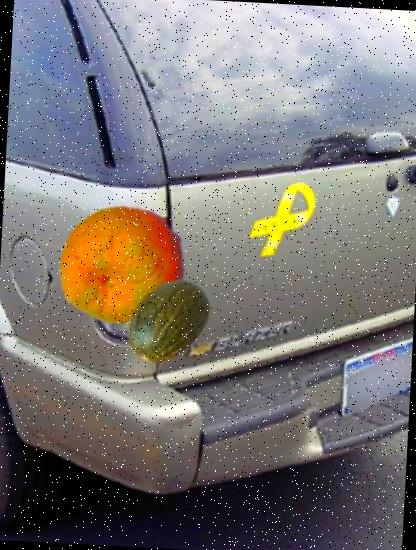Mandarine: (54, 198, 191, 335)
Melon: (121, 273, 219, 372)
